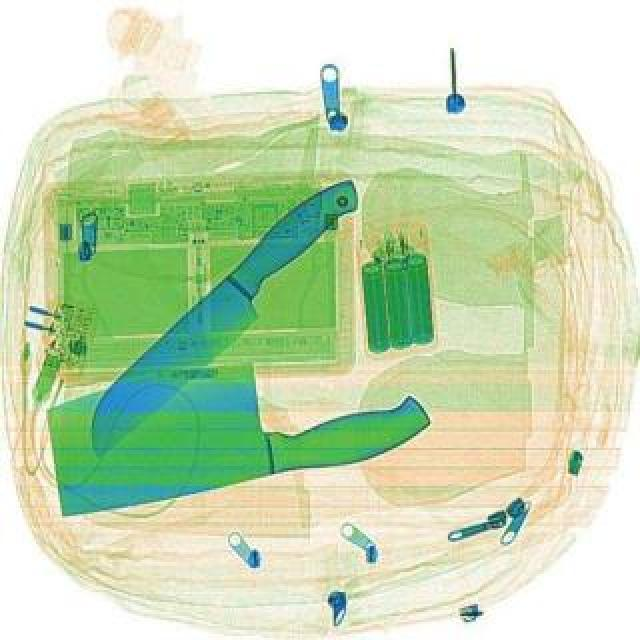knife: (64, 160, 372, 468), (34, 326, 438, 520)
